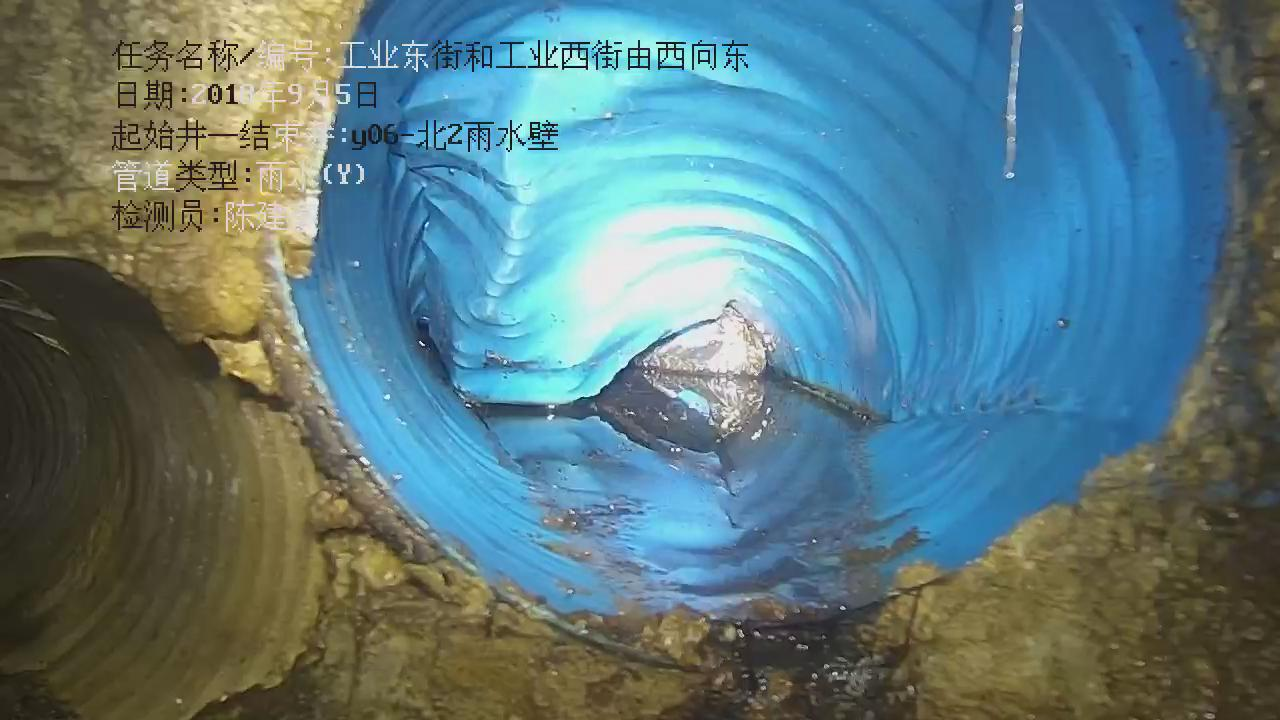BX: (352, 64, 823, 398)
